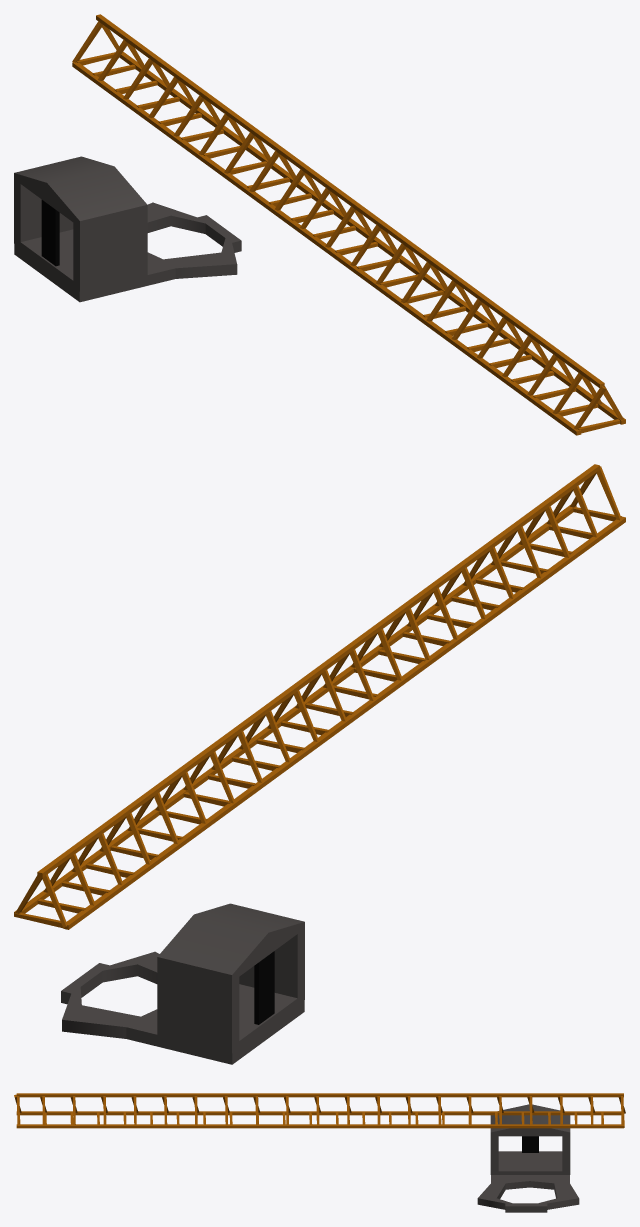
Rendered from kran_Top.fbx.
3 renders of one model, top to bottom at view 1: azimuth 30°, elevation 25°; view 2: azimuth 150°, elevation 25°; view 3: azimuth 270°, elevation 25°, orthographic. The views are drawn at different scales.
Visible parts, largest first — view 1: polySurface66; view 2: polySurface66; view 3: polySurface66.
Part boxes in pixels (x1=…): polySurface66: x1=14, y1=14, x2=625, y2=435; polySurface66: x1=14, y1=464, x2=625, y2=1064; polySurface66: x1=14, y1=1093, x2=625, y2=1212.
Bounding box in the file's own units: 43.97 × 42.37 × 223.
